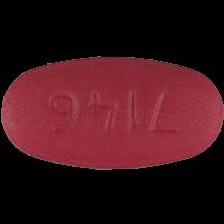0093-7146: (0, 0, 224, 224)
